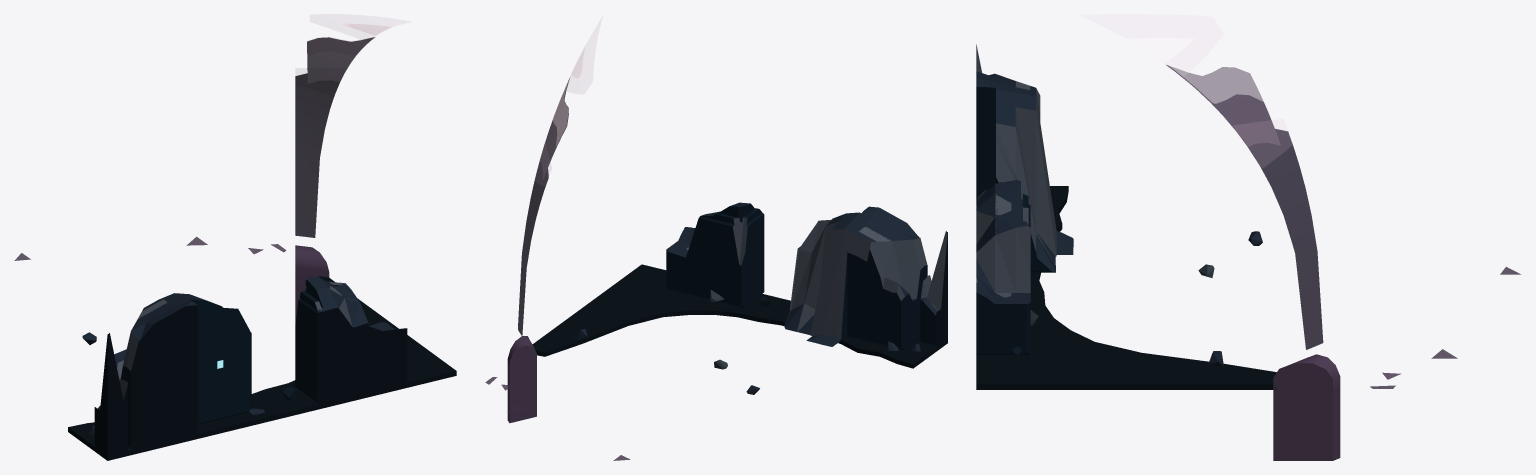
Rendered from purple_dome_tc_wreck.glb.
3 renders of one model, left to right at view 1: azimuth 30°, elevation 25°; view 2: azimuth 150°, elevation 25°; view 3: azimuth 270°, elevation 25°, orthographic. The views are drawn at different scales.
Parts seen in each view (by area): view 1: purple_dome_tc_wreck; view 2: purple_dome_tc_wreck; view 3: purple_dome_tc_wreck.
Boxes of the visible parts, x1,y1,x2,y2 form: purple_dome_tc_wreck: [14, 14, 456, 460]; purple_dome_tc_wreck: [485, 19, 947, 460]; purple_dome_tc_wreck: [976, 14, 1520, 460].
Size of the model in its own units: 24 by 25.17 by 27.86.
